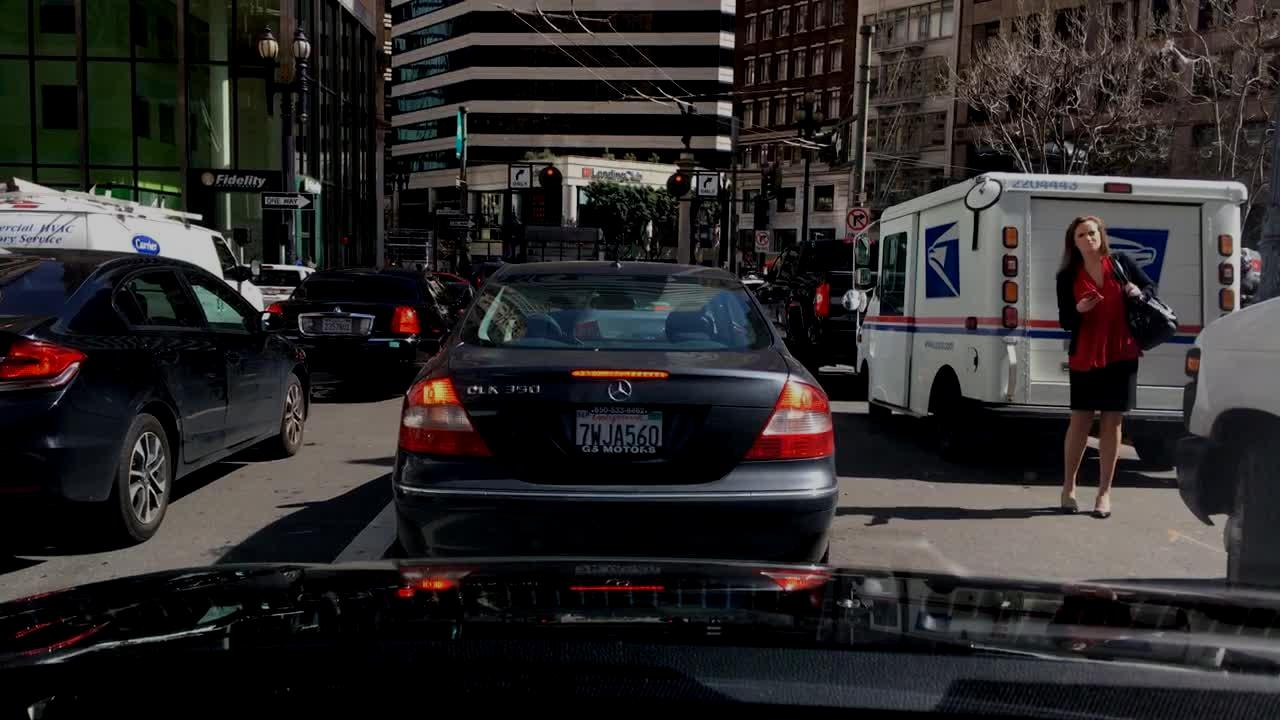Mercedes: (598, 368, 653, 417)
